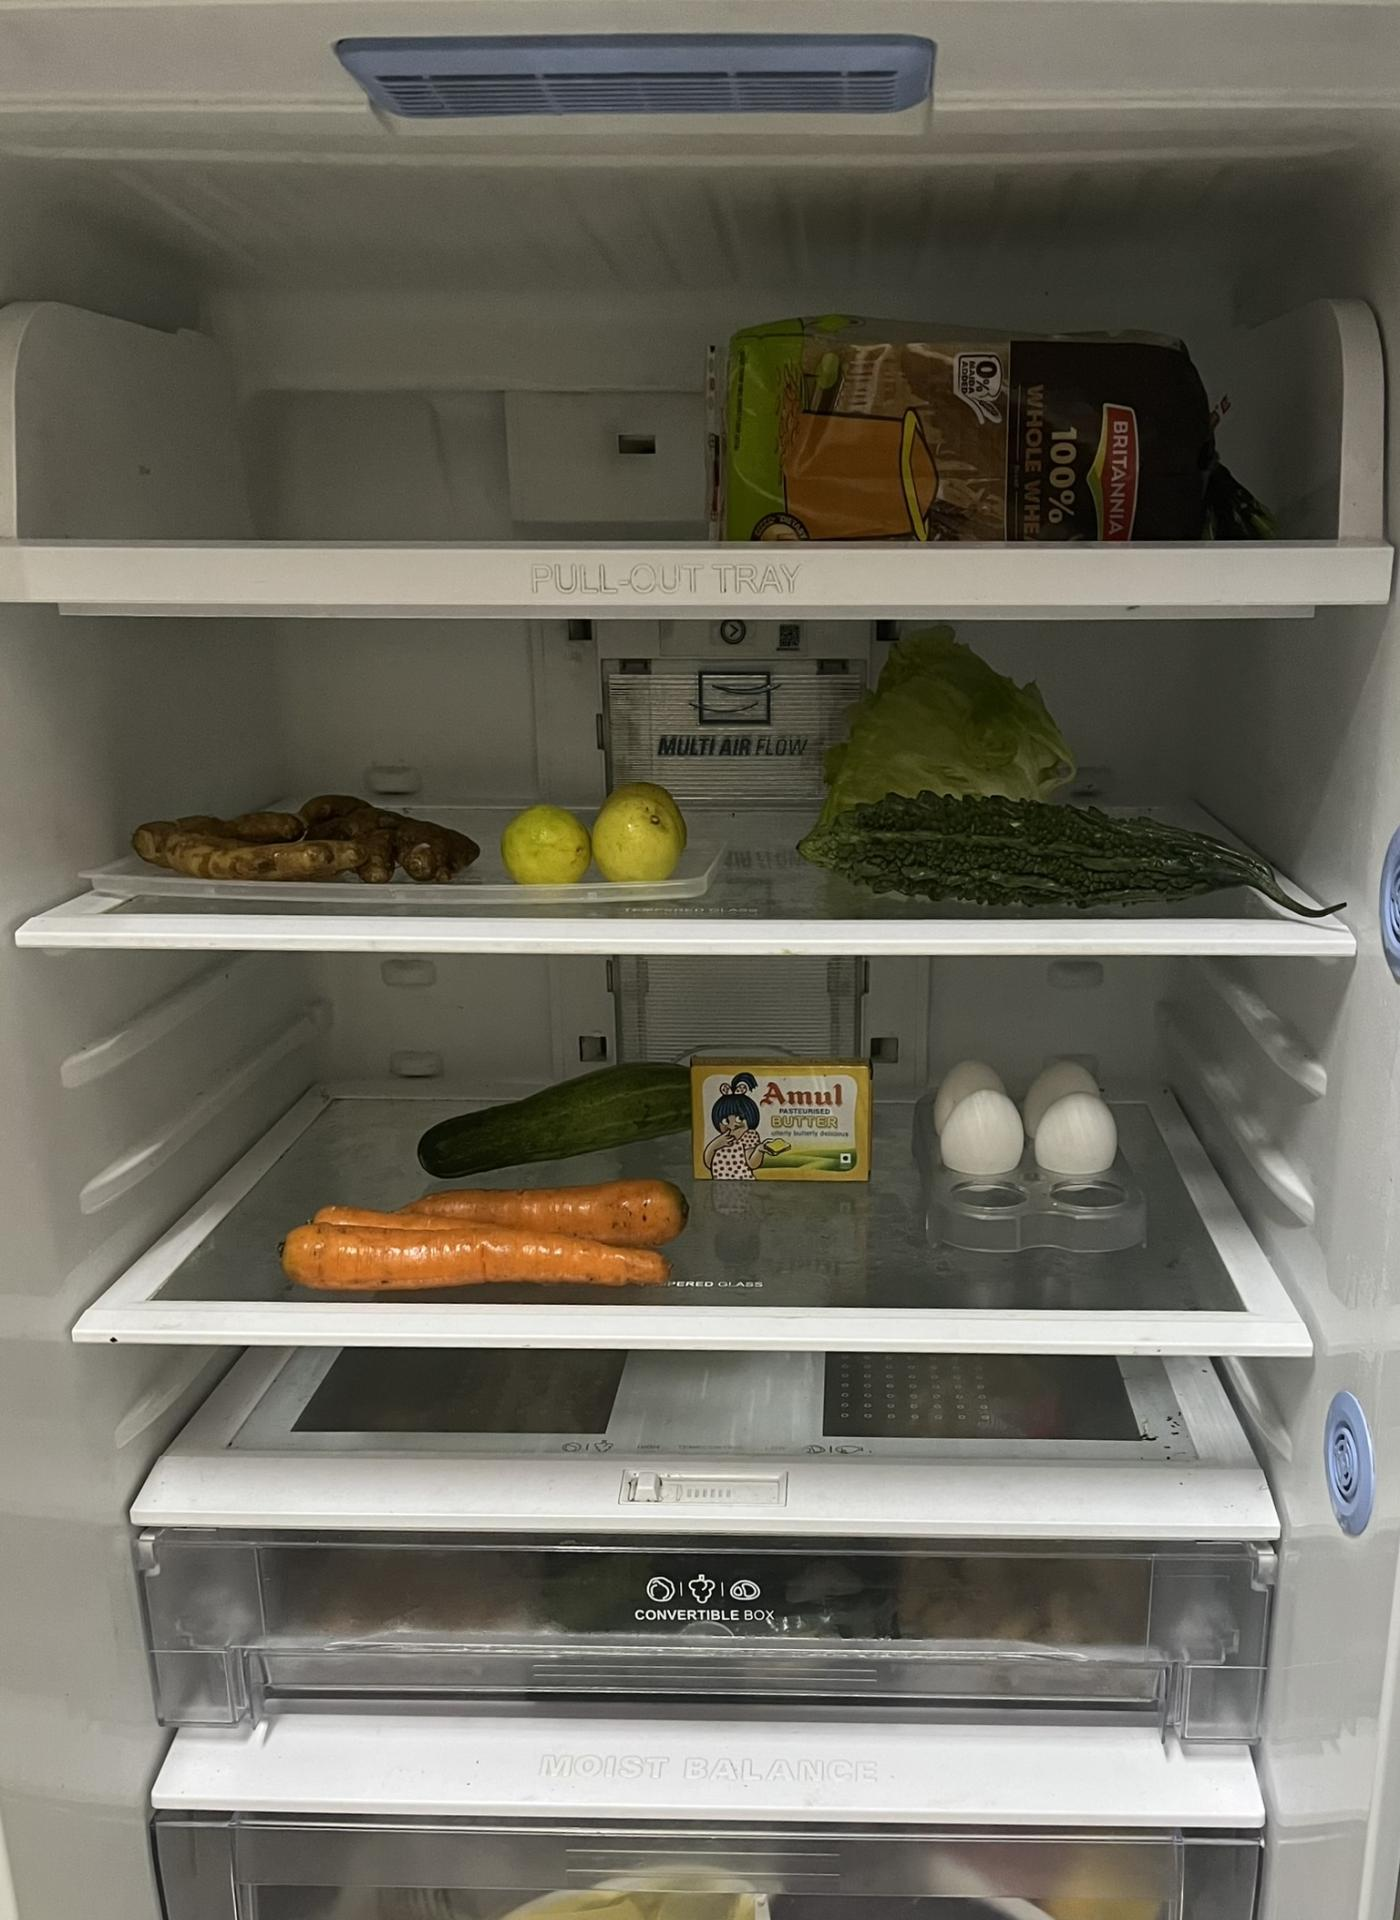bread: (723, 300, 1261, 538)
butter: (684, 1054, 872, 1188)
carrots: (282, 1175, 692, 1285)
cucumber: (413, 1046, 705, 1181)
egg: (936, 1055, 1121, 1178)
ginger: (122, 793, 483, 887)
lemon: (498, 781, 690, 884)
lettuce: (814, 616, 1091, 812)
